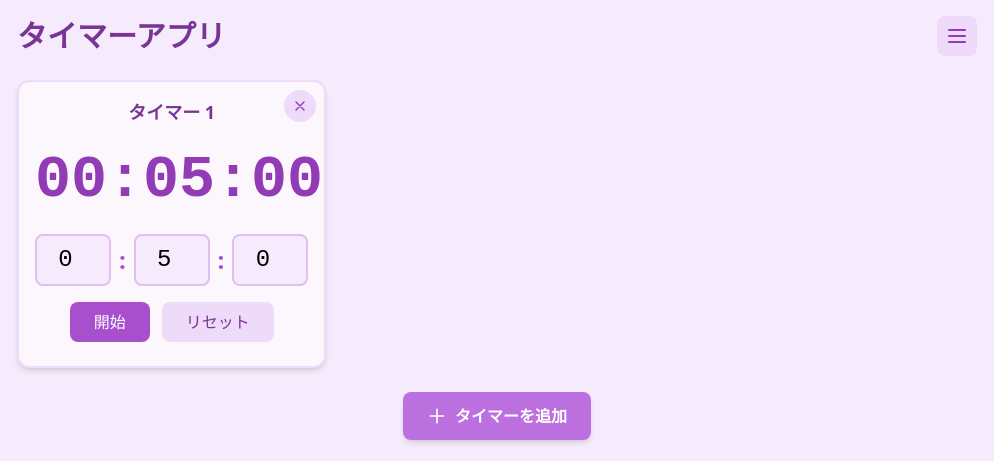
Scenario: App › 複数タイマー管理機能 (Req 6.1-6.5) › 削除ボタンをクリックするとタイマーが削除される
Click the button with test id "add-timer-button" at (497, 416), box top-left (403, 392), bottom-right (591, 440)
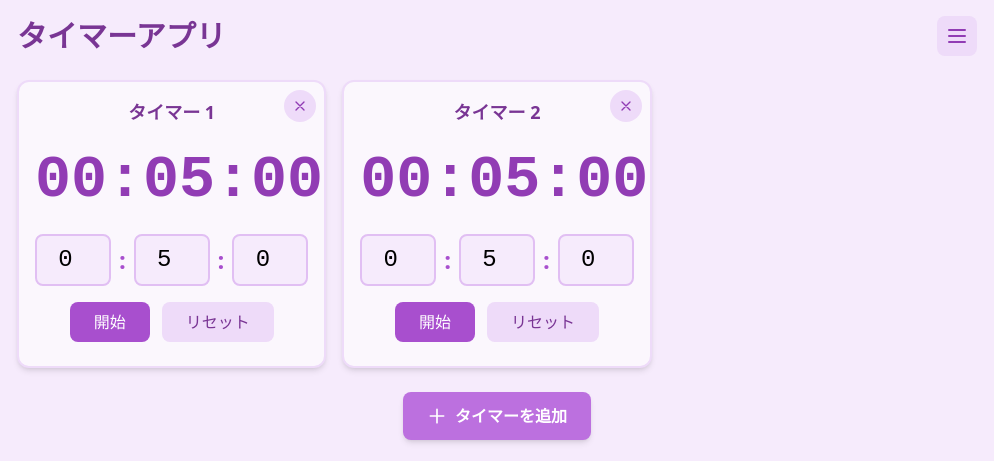
Check: the number of elements with test id "timer-card" is 2, box top-left (17, 80), bottom-right (326, 368); top-left (342, 80), bottom-right (652, 368)
Click the button with test id "delete-button" at (300, 106), box top-left (284, 90), bottom-right (316, 122)
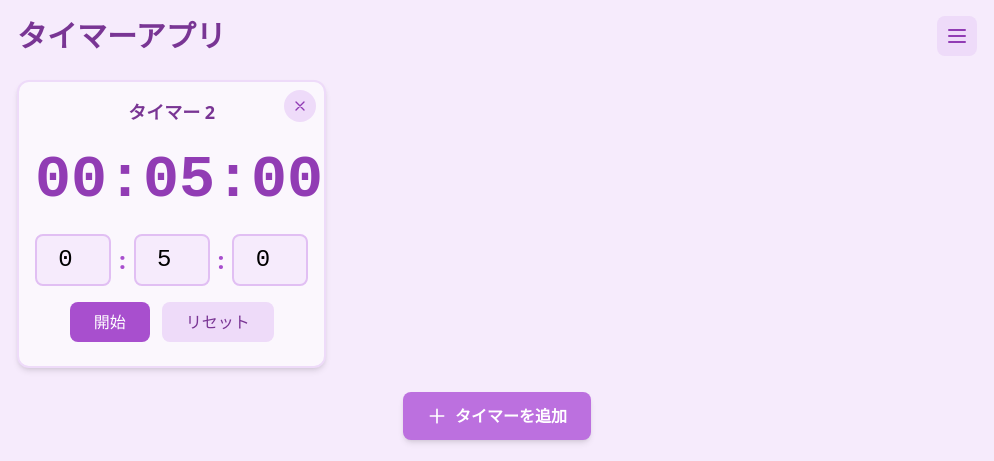
Check: the number of elements with test id "timer-card" is 1, box top-left (17, 80), bottom-right (326, 368)
